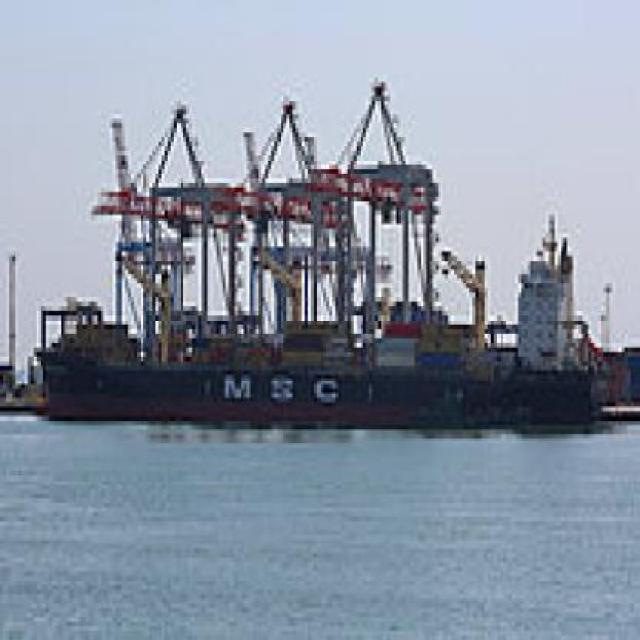container: (23, 69, 629, 445)
